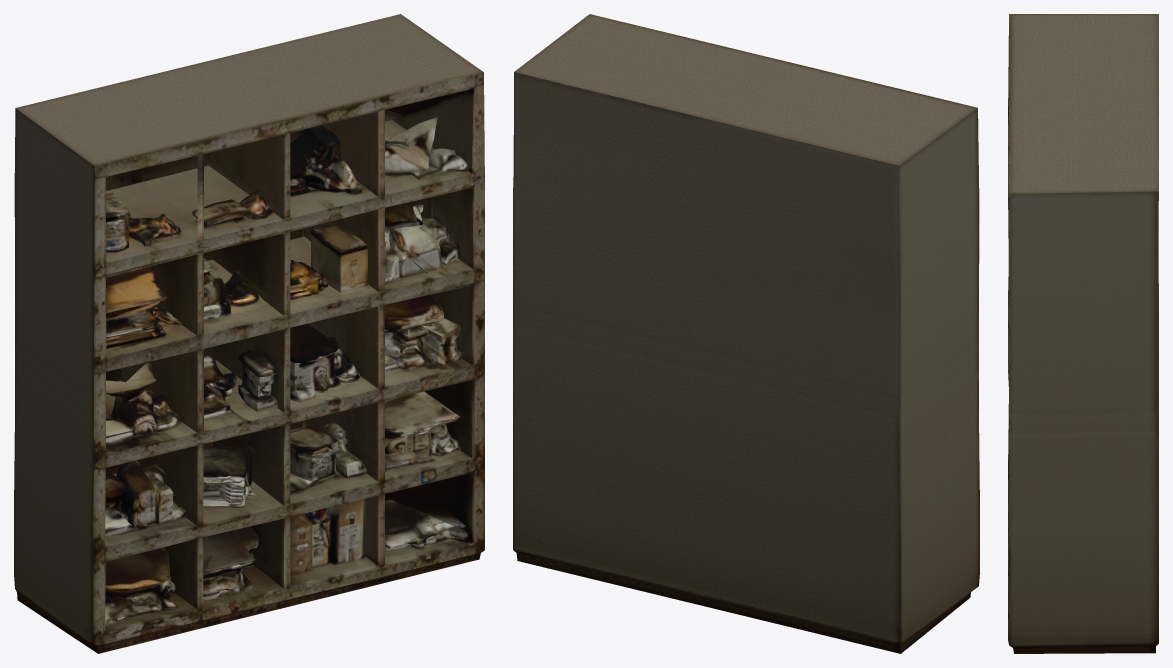
3 renders of one model, left to right at view 1: azimuth 30°, elevation 25°; view 2: azimuth 150°, elevation 25°; view 3: azimuth 270°, elevation 25°, orthographic. The views are drawn at different scales.
Visible parts, largest first — view 1: p_c_11_LOD0; view 2: p_c_11_LOD0; view 3: p_c_11_LOD0.
Boxes of the visible parts, x1,y1,x2,y2 form: p_c_11_LOD0: (14, 14, 484, 653); p_c_11_LOD0: (513, 14, 979, 653); p_c_11_LOD0: (1008, 14, 1158, 653).
Size of what is drawn, in the model's own units: 214 by 256 by 75.56.
Materials: 1 (1 with a texture image).
